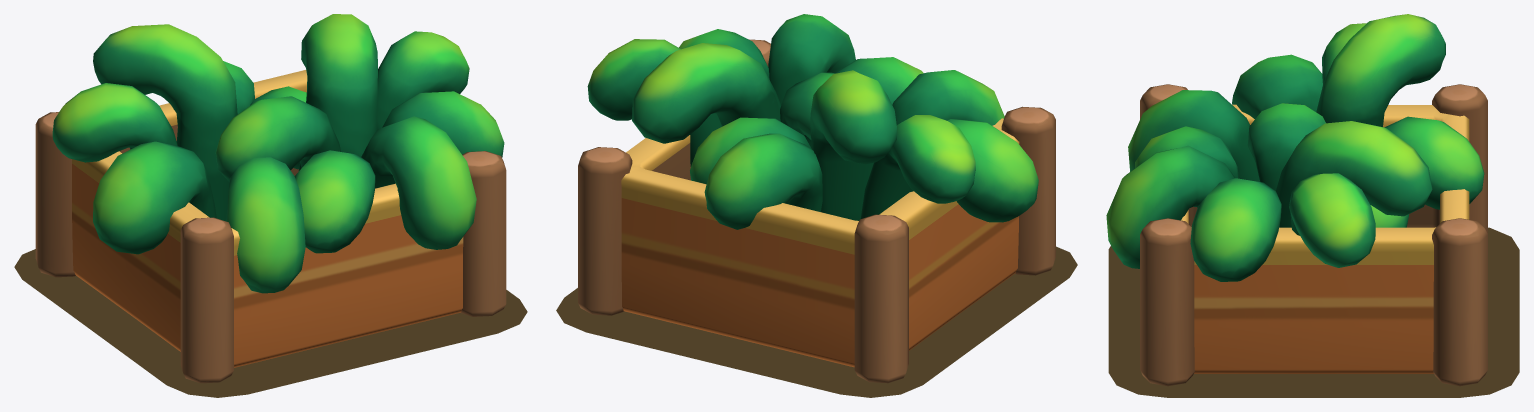
File: WoodBox_Grass.fbx
The picture shows the model from 3 angles, left to right: view 1: azimuth 30°, elevation 25°; view 2: azimuth 150°, elevation 25°; view 3: azimuth 270°, elevation 25°; orthographic projection.
Visible parts, largest first — view 1: Woodbox_Grassbody, WoodboxB_body, WoodboxB_SDW; view 2: WoodboxB_body, Woodbox_Grassbody, WoodboxB_SDW; view 3: Woodbox_Grassbody, WoodboxB_body, WoodboxB_SDW.
Part boxes in pixels (x1=…): Woodbox_Grassbody: x1=52, y1=14, x2=504, y2=293; WoodboxB_body: x1=35, y1=70, x2=506, y2=383; WoodboxB_SDW: x1=14, y1=249, x2=527, y2=397; WoodboxB_body: x1=578, y1=39, x2=1055, y2=383; Woodbox_Grassbody: x1=587, y1=14, x2=1038, y2=229; WoodboxB_SDW: x1=556, y1=246, x2=1077, y2=397; Woodbox_Grassbody: x1=1106, y1=14, x2=1484, y2=281; WoodboxB_body: x1=1140, y1=84, x2=1487, y2=386; WoodboxB_SDW: x1=1108, y1=227, x2=1519, y2=397.
Size of the model in its own units: 134 by 80.81 by 118.
3 materials, 2 textured.
